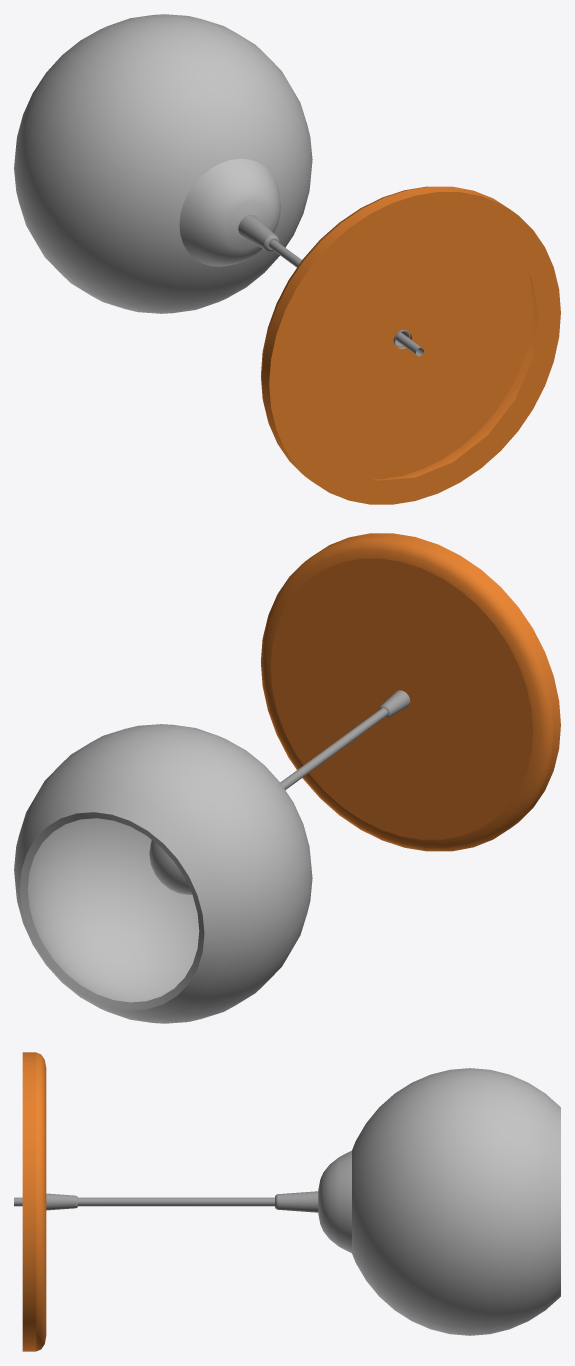
Rendered from Ceiling_Light_autozup.gltf.
3 views of the same model, one above another, from view 1: azimuth 30°, elevation 25°; view 2: azimuth 150°, elevation 25°; view 3: azimuth 270°, elevation 25° (orthographic). The views are drawn at different scales.
Parts seen in each view (by area): view 1: Lamp; view 2: Lamp; view 3: Lamp.
Part boxes in pixels (box(x1,y1,x2,y2)): Lamp: box(14, 14, 560, 504); Lamp: box(14, 533, 560, 1023); Lamp: box(14, 1052, 560, 1351).
Bounding box in the file's own units: 0.2868 × 0.2868 × 0.5243.
